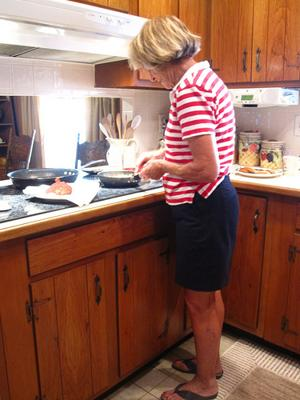person: (132, 15, 240, 400)
